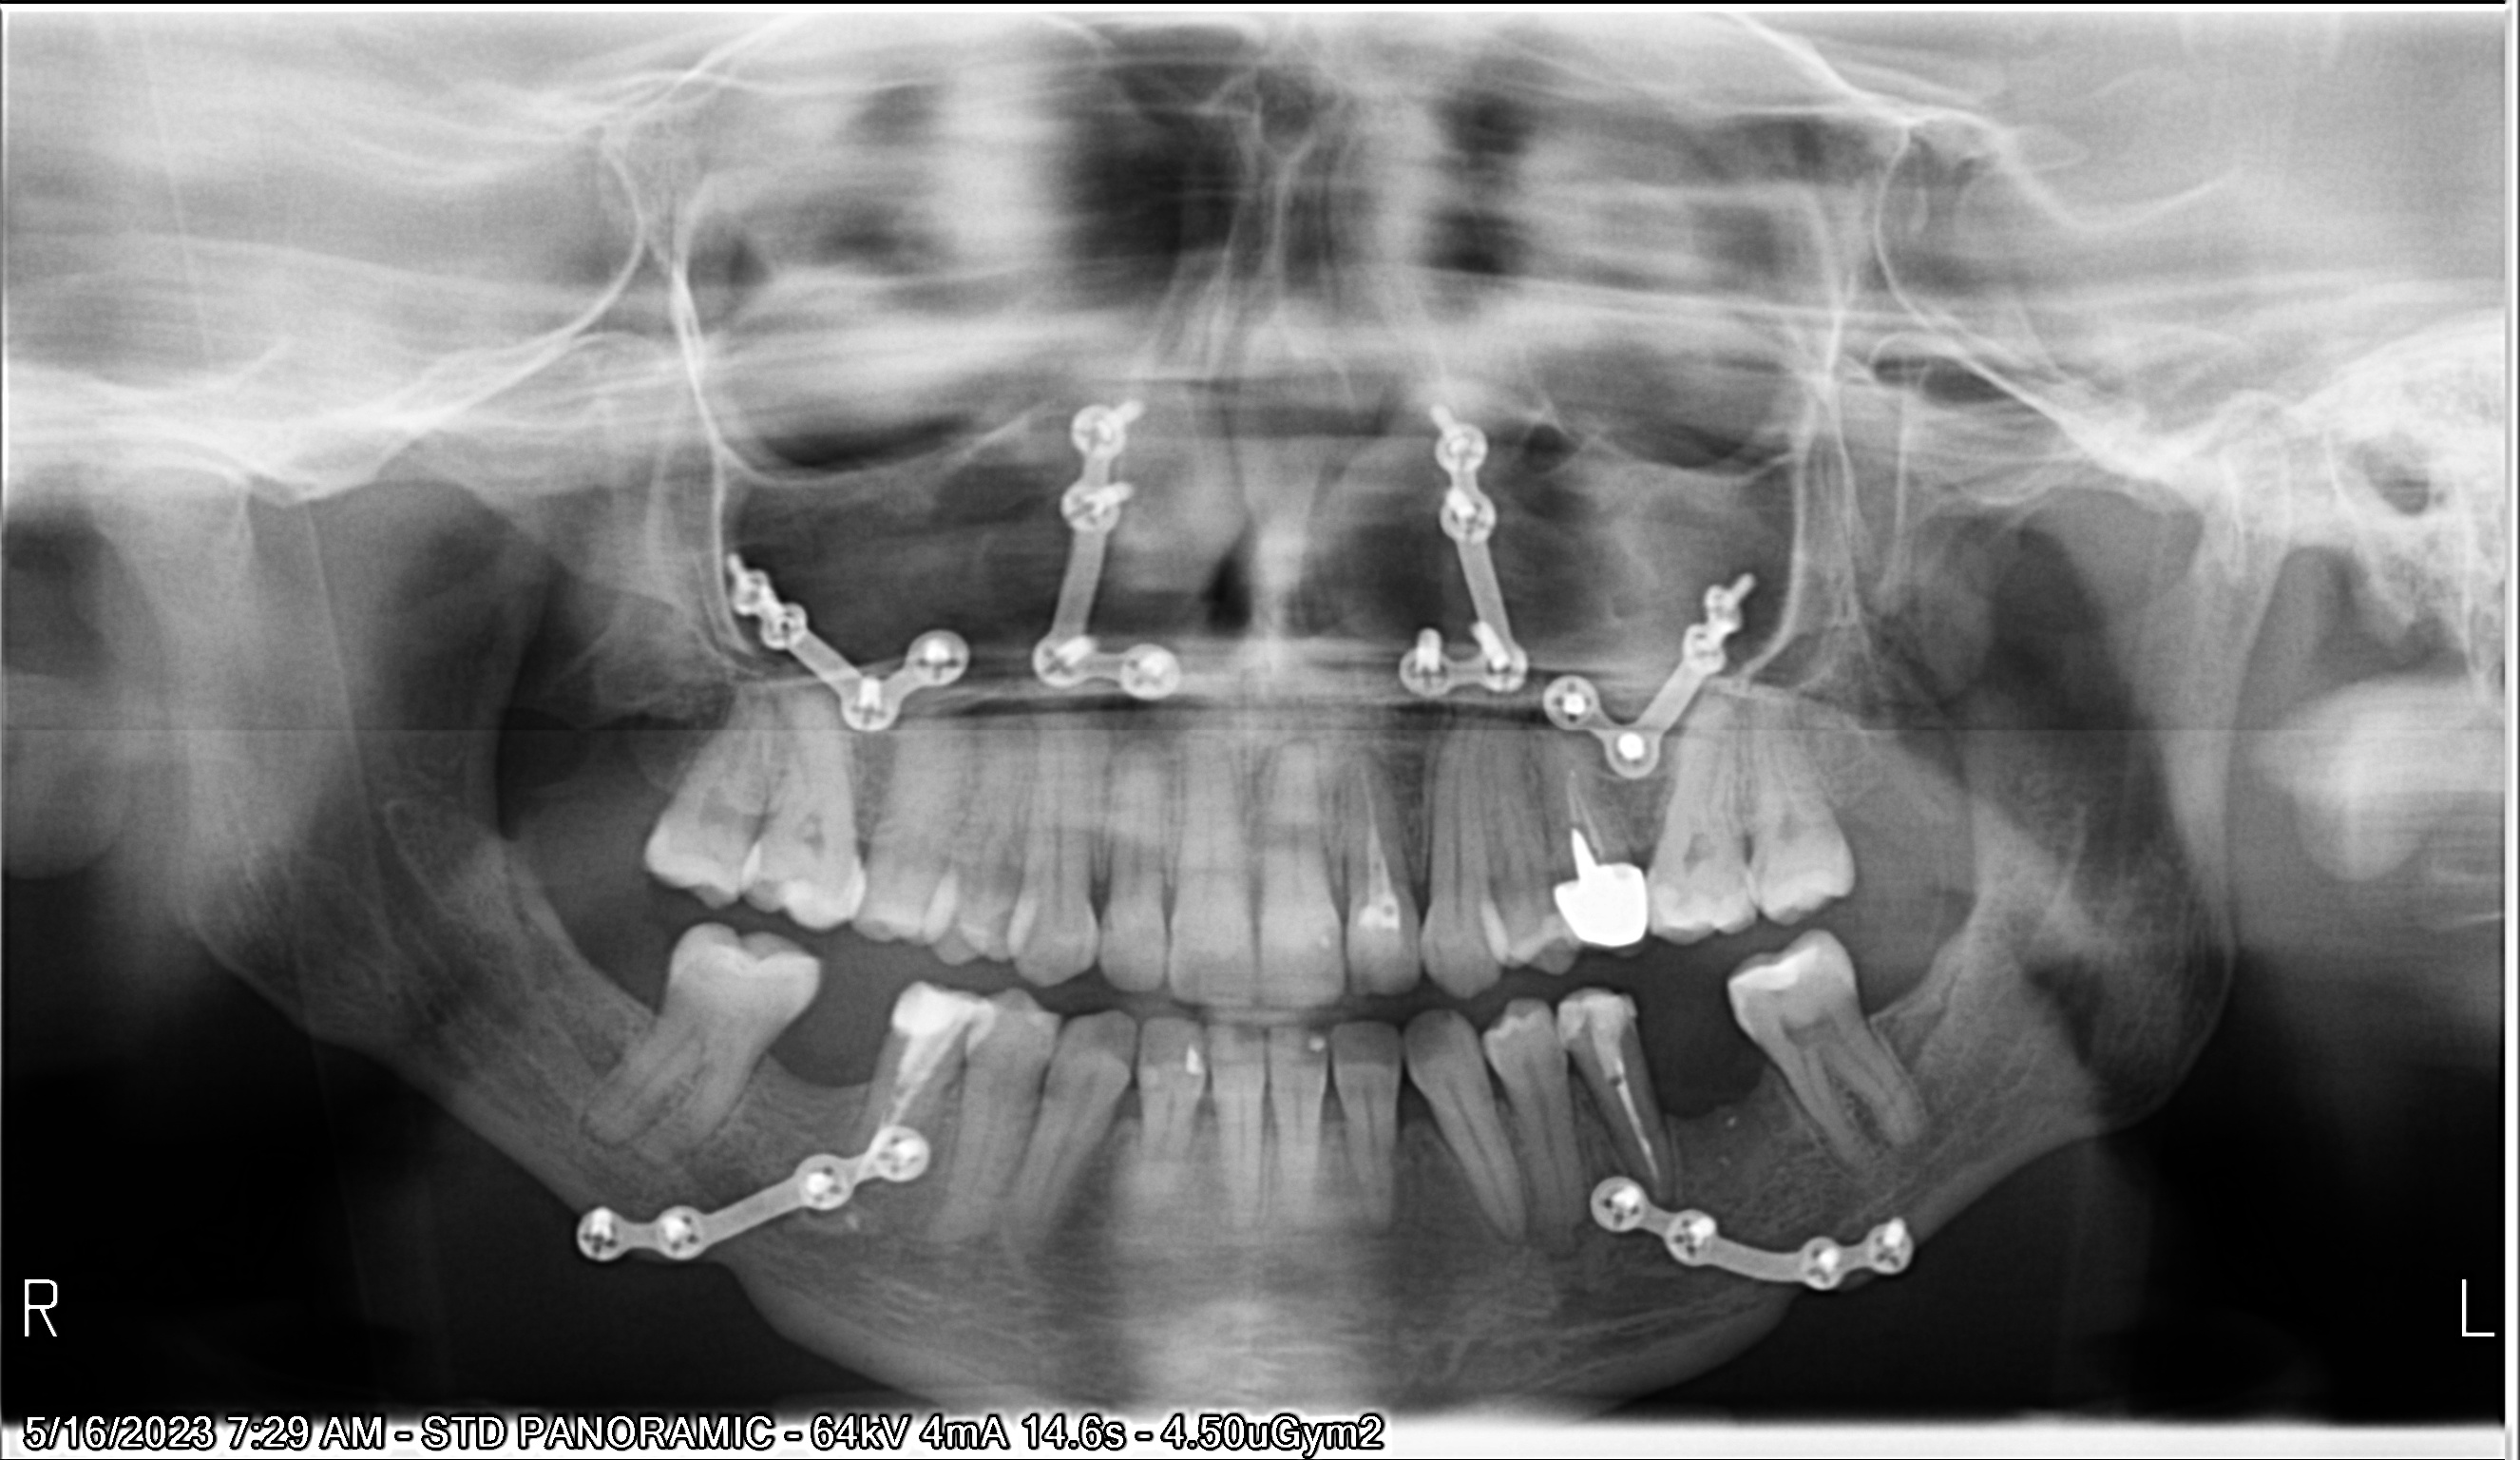BON: (1645, 1065, 1679, 1130), (1403, 1085, 1429, 1131), (1485, 1074, 1514, 1111), (1322, 1086, 1349, 1125), (1190, 1081, 1211, 1121), (1118, 1081, 1134, 1126), (1263, 1085, 1273, 1130), (1042, 1060, 1047, 1100)
CAR: (1671, 879, 1721, 916), (752, 871, 787, 921), (1751, 843, 1770, 899), (1733, 864, 1752, 902)
END: (1349, 754, 1408, 932), (1613, 1046, 1679, 1194), (882, 1024, 929, 1198), (1540, 742, 1608, 855)
OBT: (1342, 921, 1410, 998), (891, 982, 978, 1041), (1560, 987, 1634, 1052), (1745, 958, 1813, 992), (1299, 1029, 1327, 1058), (1184, 1048, 1212, 1076)
PRR: (1547, 853, 1655, 954)
SRD: (1582, 1163, 1926, 1326), (580, 1135, 936, 1290), (1026, 388, 1197, 711), (1546, 523, 1766, 768), (1408, 337, 1539, 730), (710, 541, 962, 737)
